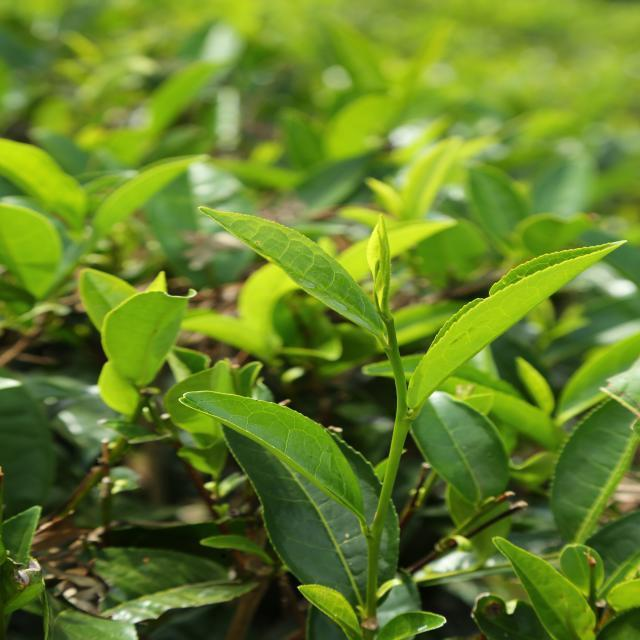Stem: (386, 348, 401, 364)
